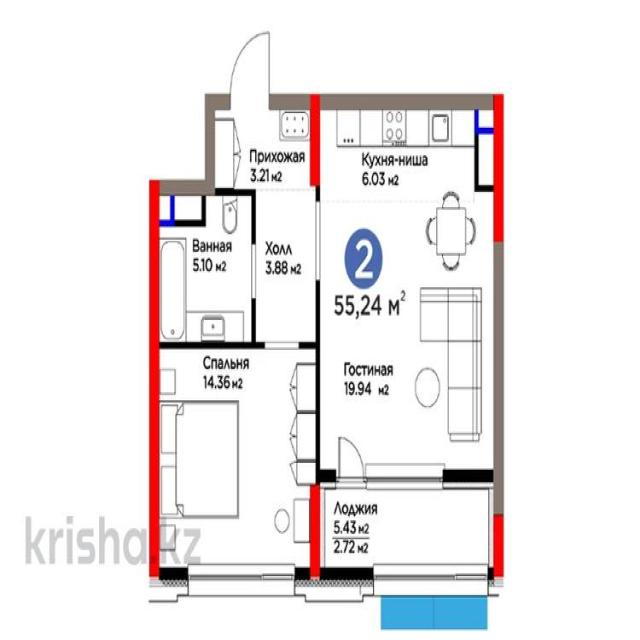balcony: (318, 480, 496, 579)
bathroom: (158, 189, 254, 345)
hallway: (253, 182, 318, 346), (210, 98, 316, 191)
living_room: (154, 341, 316, 571)
studio: (318, 101, 501, 476)
